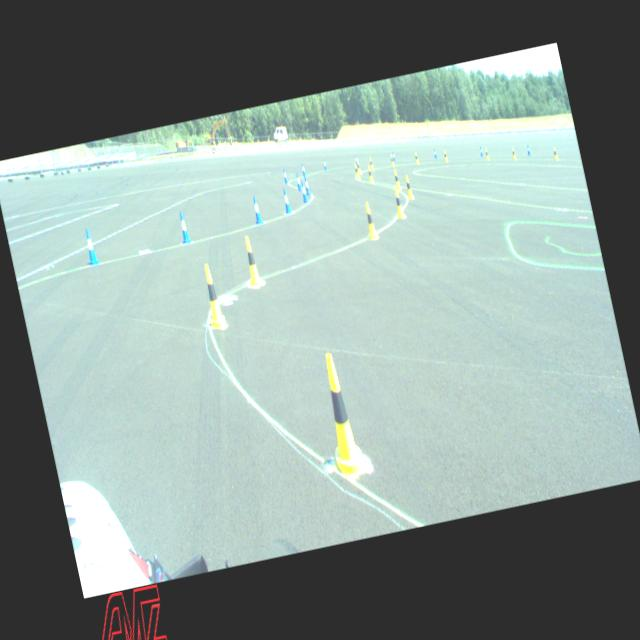blue_cone: (82, 227, 99, 264), (176, 210, 190, 243), (250, 195, 262, 224), (280, 188, 292, 213), (299, 180, 308, 202), (302, 176, 310, 195), (294, 172, 302, 190), (282, 168, 288, 183), (300, 162, 305, 175), (322, 158, 327, 170), (354, 154, 358, 165), (526, 144, 530, 154), (479, 146, 483, 156), (392, 150, 396, 160), (433, 148, 437, 158)
yellow_cone: (314, 350, 366, 476), (199, 262, 226, 328), (240, 235, 262, 286), (362, 202, 378, 238), (392, 188, 404, 218), (402, 174, 413, 198), (392, 168, 401, 190), (366, 165, 374, 183), (353, 162, 360, 178), (510, 146, 516, 160), (552, 147, 558, 160), (368, 157, 374, 170), (356, 160, 362, 172), (442, 150, 448, 161), (484, 147, 489, 160), (414, 152, 419, 164), (390, 154, 394, 166)
